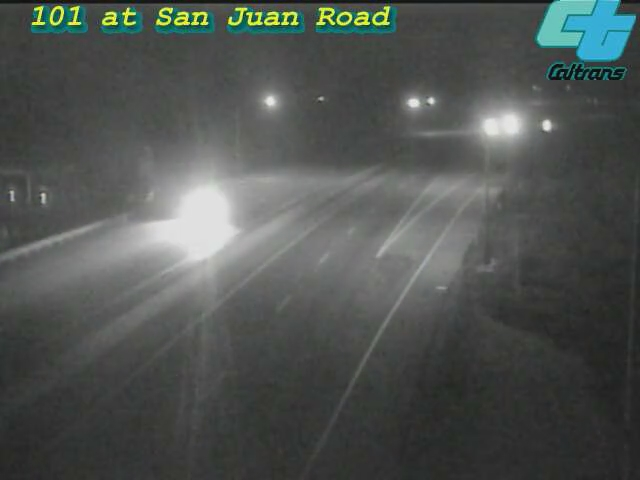vehicle: (163, 167, 243, 247), (521, 102, 571, 152), (465, 102, 515, 152), (485, 100, 535, 150)
